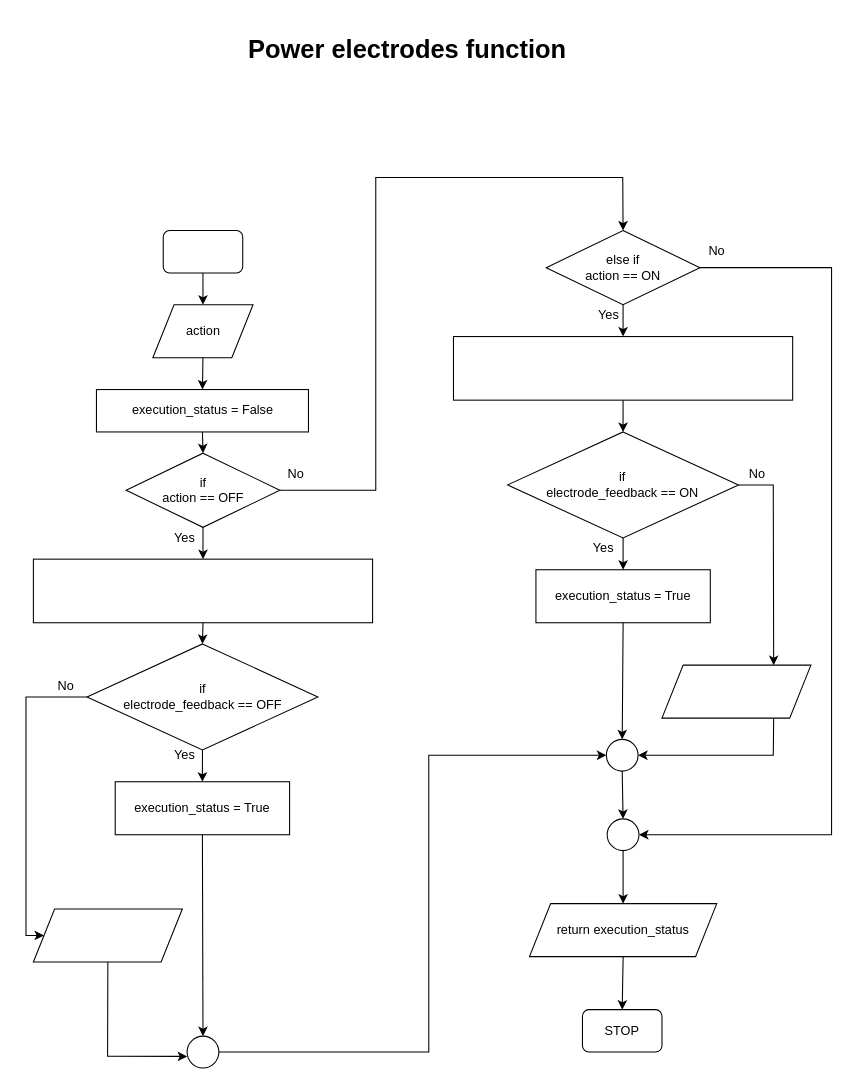
This 859x1087 diagram has some shape labels left out. Here are the shapes that lost their labels. From the top down, the centre of each, then its label:
At pixel 202 251: "START".
At pixel 622 367: "drive electrode relay high electrode_feedback = read_electrode_power_feedback()".
At pixel 202 590: "drive electrode relay low electrode_feedback = read_electrode_power_feedback()".
At pixel 736 691: "Failed to power ON electrodes".
At pixel 107 935: "Failed to power OFF electrodes".
